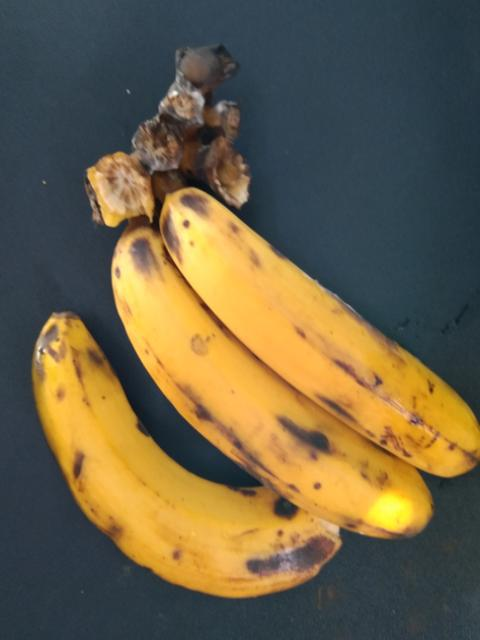overripe: (77, 195, 436, 538), (23, 300, 339, 607), (165, 181, 479, 470)
